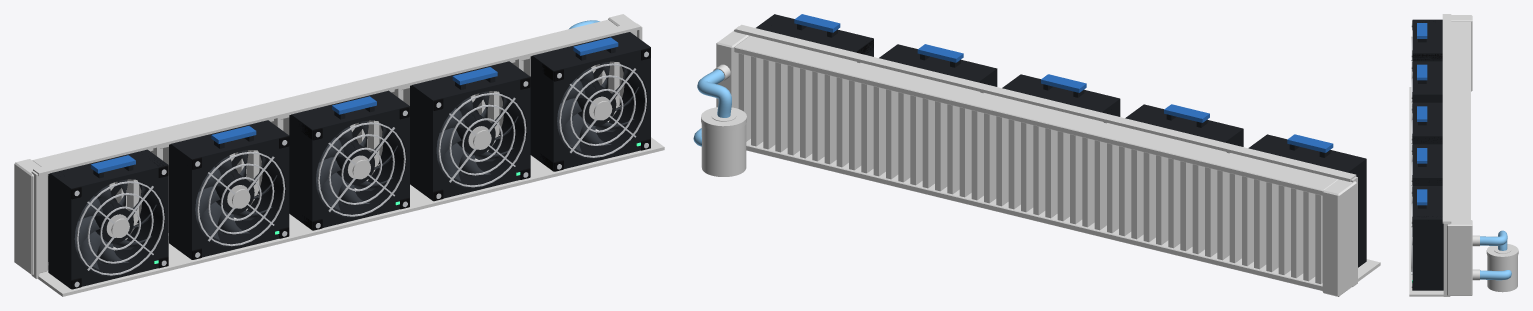
Rendered from hwm_cool_aio_240.glb.
The picture shows the model from 3 angles, left to right: view 1: azimuth 30°, elevation 25°; view 2: azimuth 150°, elevation 25°; view 3: azimuth 270°, elevation 25°; orthographic projection. The views are drawn at different scales.
Parts seen in each view (by area): view 1: Body, Rotor_Z_1, Rotor_Z_4, Rotor_Z_3, Rotor_Z_2, Rotor_Z_0; view 2: Body, Flow_0; view 3: Body, Flow_0, Flow_1.
Boxes of the visible parts, x1,y1,x2,y2 form: Body: (14, 14, 664, 296); Rotor_Z_1: (195, 150, 277, 240); Rotor_Z_4: (557, 62, 638, 151); Rotor_Z_3: (436, 91, 518, 181); Rotor_Z_2: (316, 120, 397, 210); Rotor_Z_0: (74, 179, 156, 269); Body: (701, 14, 1380, 296); Flow_0: (697, 69, 731, 117); Body: (1409, 14, 1518, 296); Flow_0: (1480, 230, 1507, 250); Flow_1: (1480, 270, 1511, 280).
Size of the model in its own units: 0.582 by 0.1033 by 0.1276.
